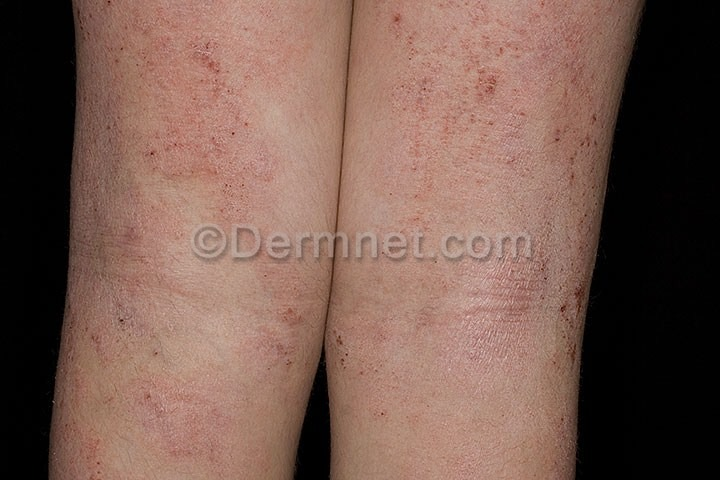Eczema: (79, 1, 314, 468), (368, 1, 592, 480), (327, 319, 363, 384)
